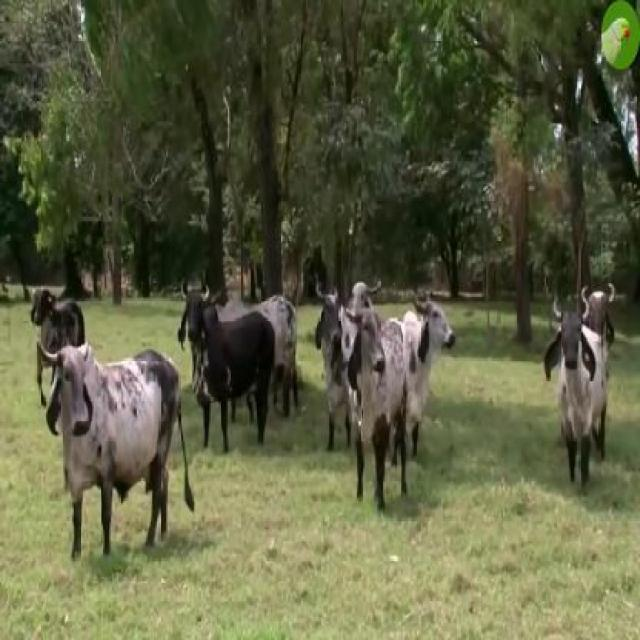Cow: (38, 336, 194, 566)
